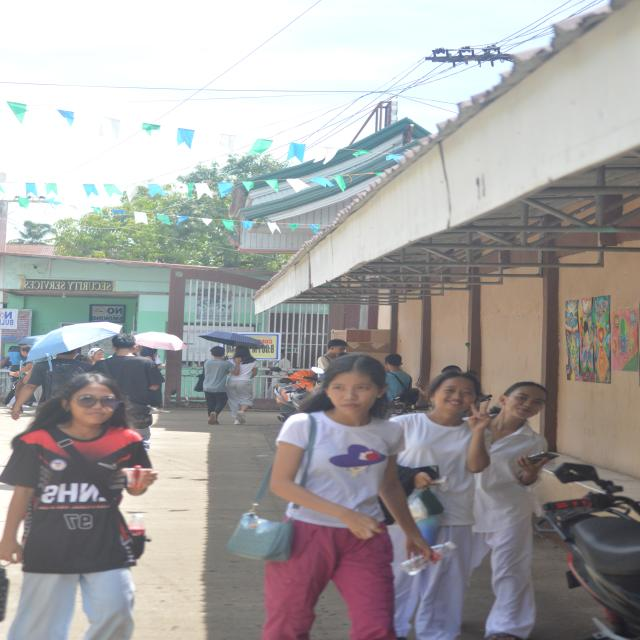person: (262, 355, 429, 639), (0, 373, 155, 639), (388, 372, 489, 639), (472, 382, 546, 639), (93, 334, 163, 450), (11, 348, 91, 419), (202, 346, 238, 424), (225, 346, 257, 424), (384, 354, 411, 402), (316, 339, 346, 370)
